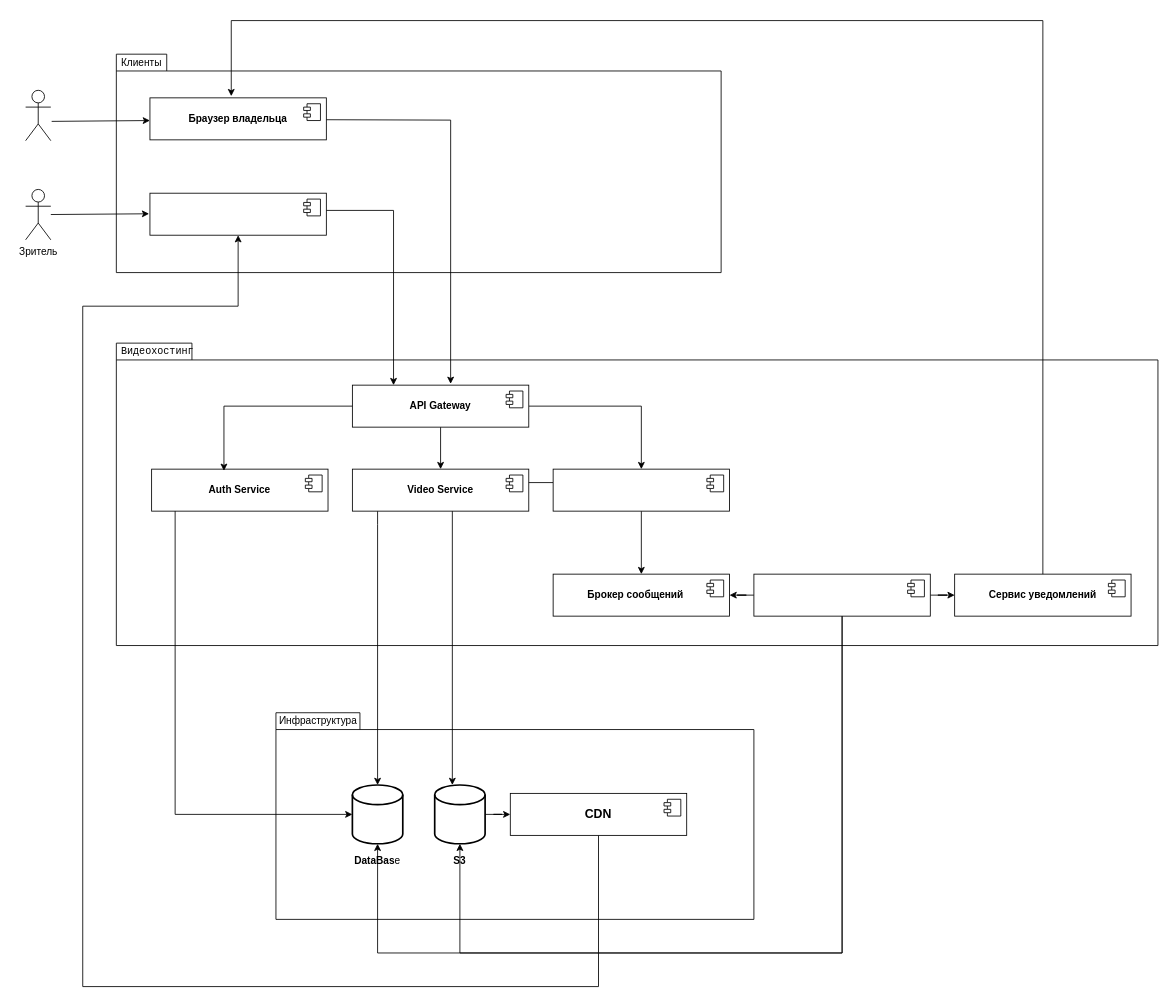
Image size: 1173x1008. Some labels were removed from this diagram. The centre of each missing label's shape, as x and y in pixels:
"Браузер зрителя" goes at pixel 237 213.
"Владелец видео" goes at pixel 38 115.
"Сервис загрузки" goes at pixel 641 489.
"Сервис транскодирования" goes at pixel 841 594.
